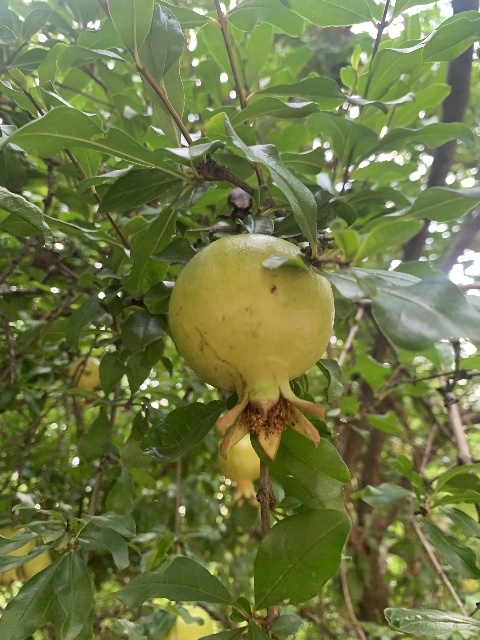mid-growth: (167, 232, 334, 469), (216, 433, 259, 507), (68, 357, 102, 404)
